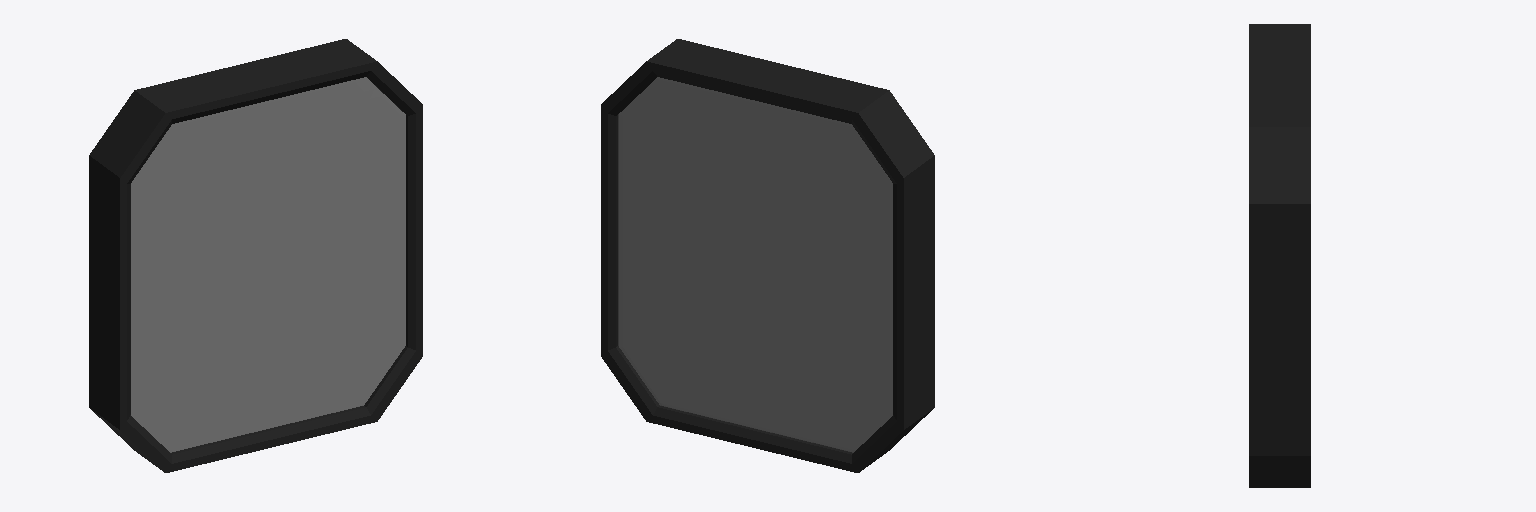
Rendered from BombPower.obj.
The picture shows the model from 3 angles: view 1: azimuth 30°, elevation 25°; view 2: azimuth 150°, elevation 25°; view 3: azimuth 270°, elevation 25°; orthographic projection.
Visible parts, largest first — view 1: SU_Display, SU_Base; view 2: SU_Display, SU_Base; view 3: SU_Base.
Boxes of the visible parts, x1,y1,x2,y2 form: SU_Display: [131, 77, 405, 452]; SU_Base: [89, 39, 422, 472]; SU_Display: [618, 77, 892, 452]; SU_Base: [601, 39, 934, 472]; SU_Base: [1249, 24, 1310, 487].
Size of the model in its own units: 1.47 by 1.67 by 0.262.